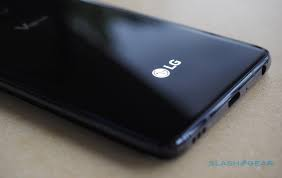lg: (1, 1, 271, 155)
